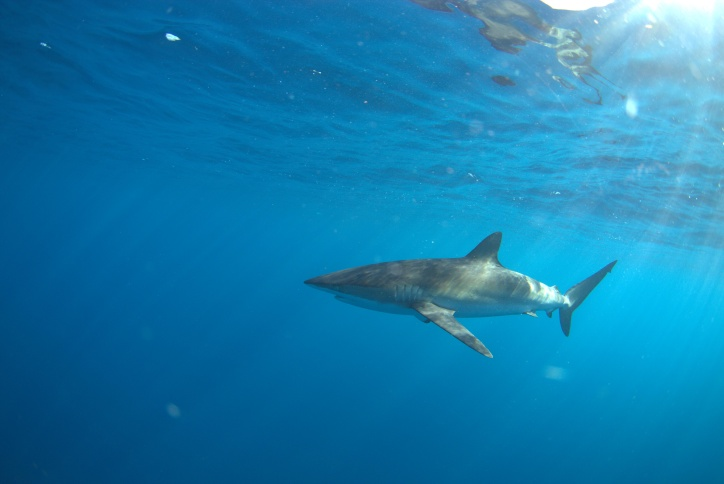Sedoso: (276, 214, 639, 379)
